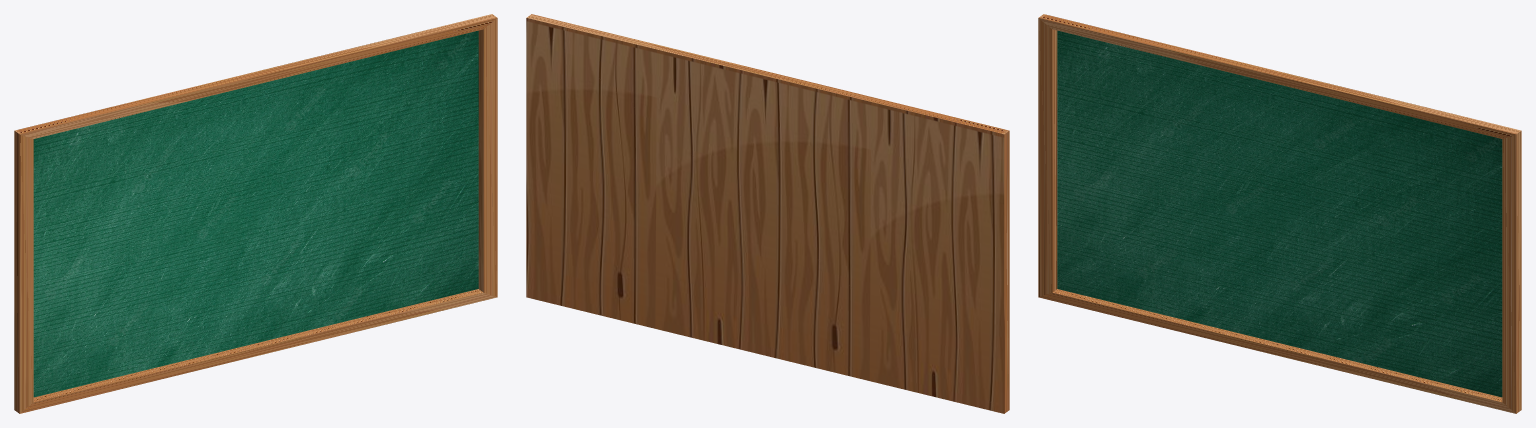
Rendered from BlackBoard 1.fbx.
3 views of the same model, side by side, from view 1: azimuth 30°, elevation 25°; view 2: azimuth 150°, elevation 25°; view 3: azimuth 330°, elevation 25° (orthographic).
Visible parts, largest first — view 1: Cube; view 2: Cube; view 3: Cube.
Part boxes in pixels (<box>): Cube: <box>14,14,497,413</box>; Cube: <box>526,14,1009,413</box>; Cube: <box>1038,14,1521,413</box>.
Bounding box in the file's own units: 1033 × 577 × 19.66.
